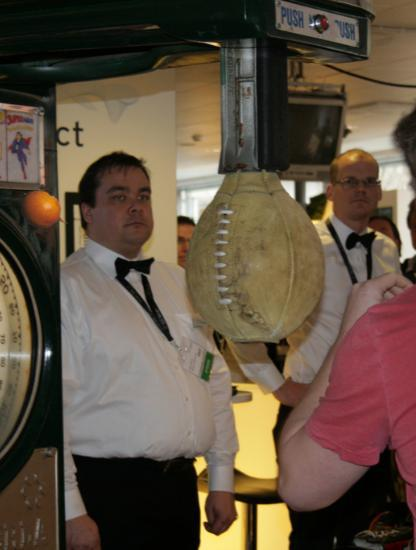Granadilla: (18, 185, 72, 239)
